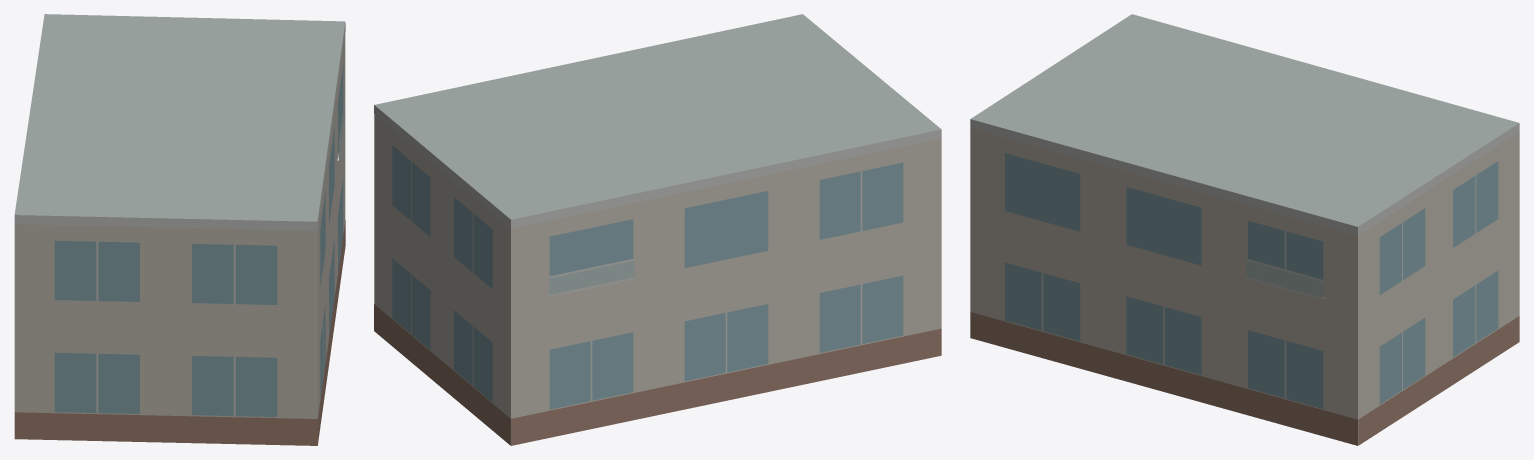
Rendered from survey-upis-32893175.glb.
3 renders of one model, left to right at view 1: azimuth 30°, elevation 25°; view 2: azimuth 150°, elevation 25°; view 3: azimuth 270°, elevation 25°, orthographic. The views are drawn at different scales.
Visible parts, largest first — view 1: survey-upis-32893175.tmp; view 2: survey-upis-32893175.tmp; view 3: survey-upis-32893175.tmp.
Boxes of the visible parts, box(x1,y1,x2,y2) form: survey-upis-32893175.tmp: box(14, 14, 345, 445); survey-upis-32893175.tmp: box(374, 14, 941, 445); survey-upis-32893175.tmp: box(970, 14, 1519, 445).
Bounding box in the file's own units: 12.73 × 6.1 × 13.88.
